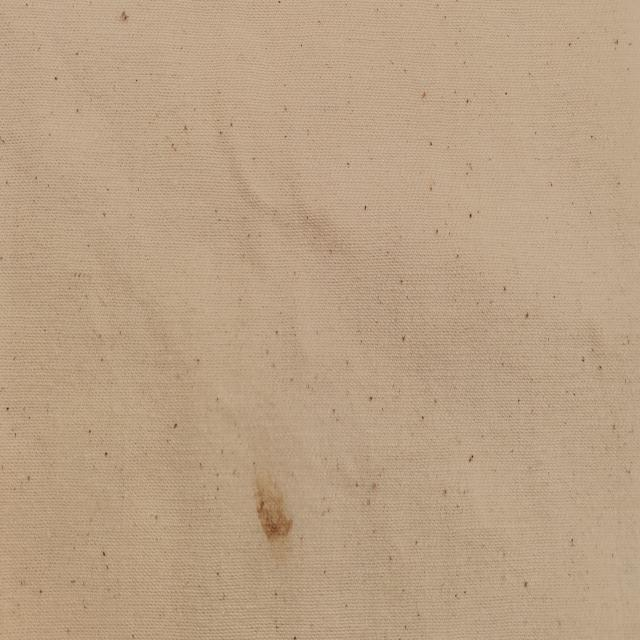taaaches: (248, 452, 298, 567)
